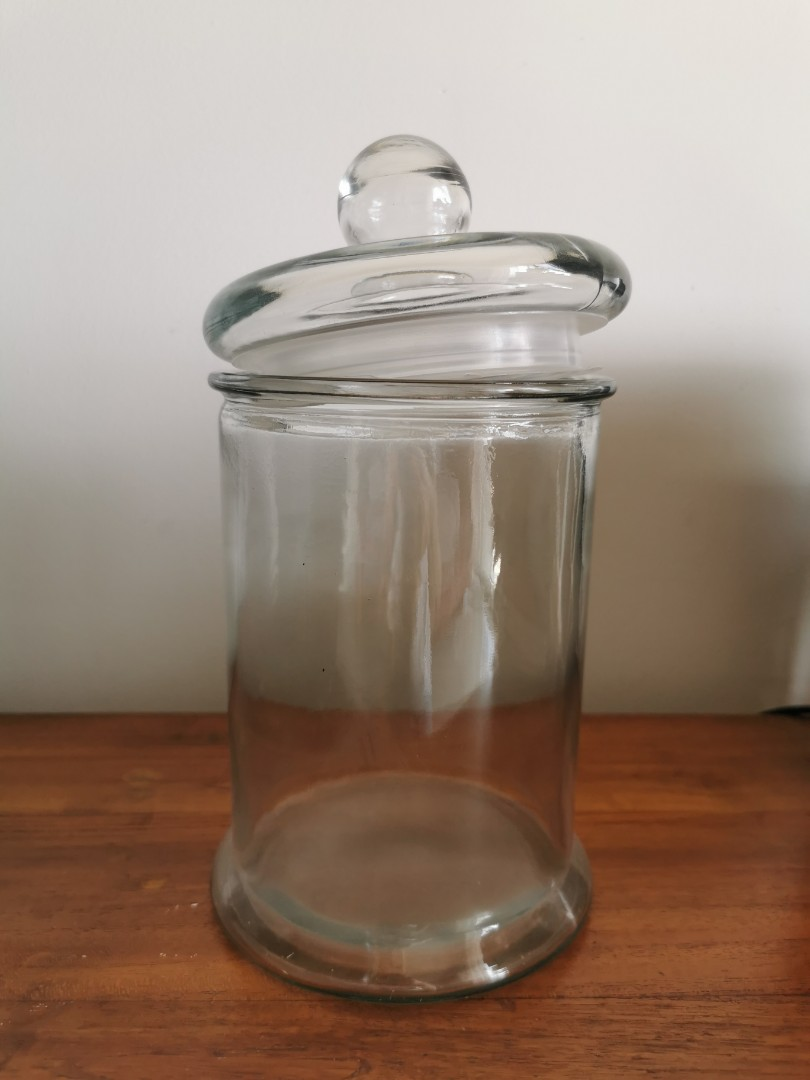glass: (202, 127, 633, 1004)
